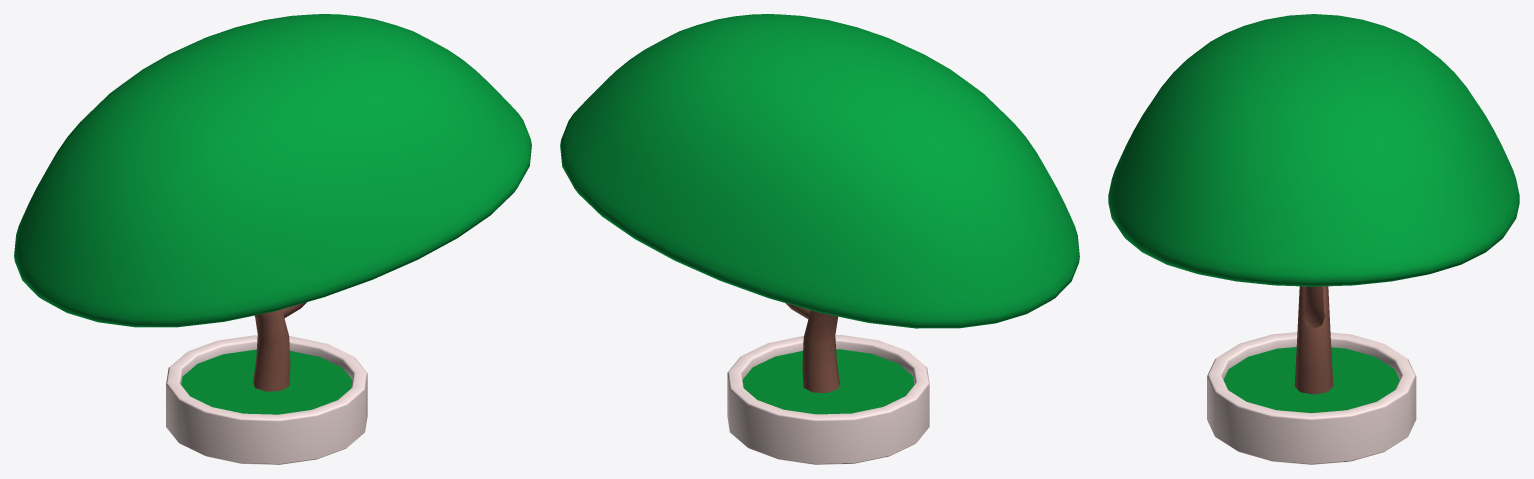
Rendered from Town_9_Bush_1.glb.
3 renders of one model, left to right at view 1: azimuth 30°, elevation 25°; view 2: azimuth 150°, elevation 25°; view 3: azimuth 270°, elevation 25°, orthographic. The views are drawn at different scales.
Visible parts, largest first — view 1: Town_9_Bush_1; view 2: Town_9_Bush_1; view 3: Town_9_Bush_1.
Boxes of the visible parts, x1,y1,x2,y2 form: Town_9_Bush_1: (14,14,531,464); Town_9_Bush_1: (560,14,1079,464); Town_9_Bush_1: (1108,14,1519,464).
Size of the model in its own units: 3.23 by 2.48 by 2.38.
1 material, 1 textured.
